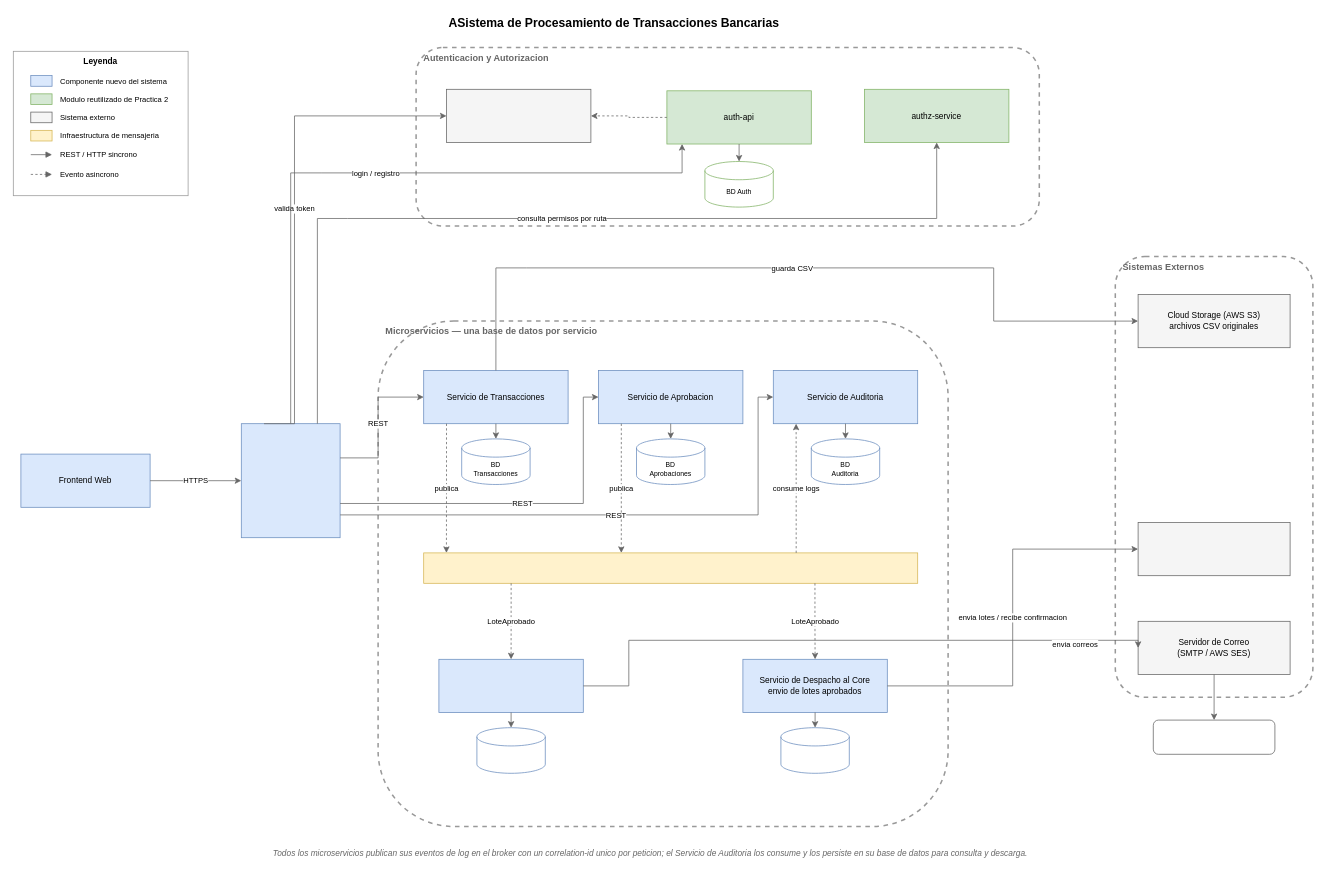
The diagram is 1327 pixels wide and 877 high, and some of its shapes have lost their labels. Here are the shapes that lost their labels. From the top down, the centre of each, then its label:
point 518,115: OAuth Corporativo
point 290,480: API Gateway
point 670,567: Broker de Mensajeria — eventos de negocio y eventos de log
point 1213,549: Core Bancario / Compensacion Interbancaria
point 510,685: Servicio de Notificaciones correos a beneficiarios
point 510,750: BD Notificaciones
point 814,750: BD Despachos
point 1214,736: Clientes / Beneficiarios
